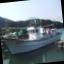fishing boat: (0, 11, 64, 57)
